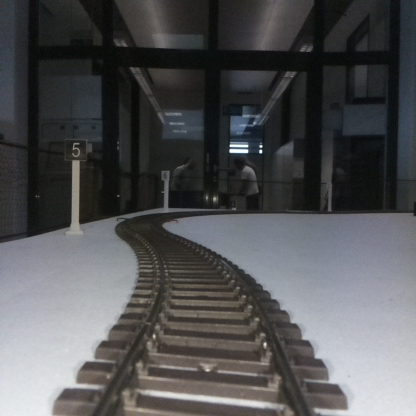black-info-5: (65, 138, 86, 233)
white-info-6: (161, 170, 169, 210)
